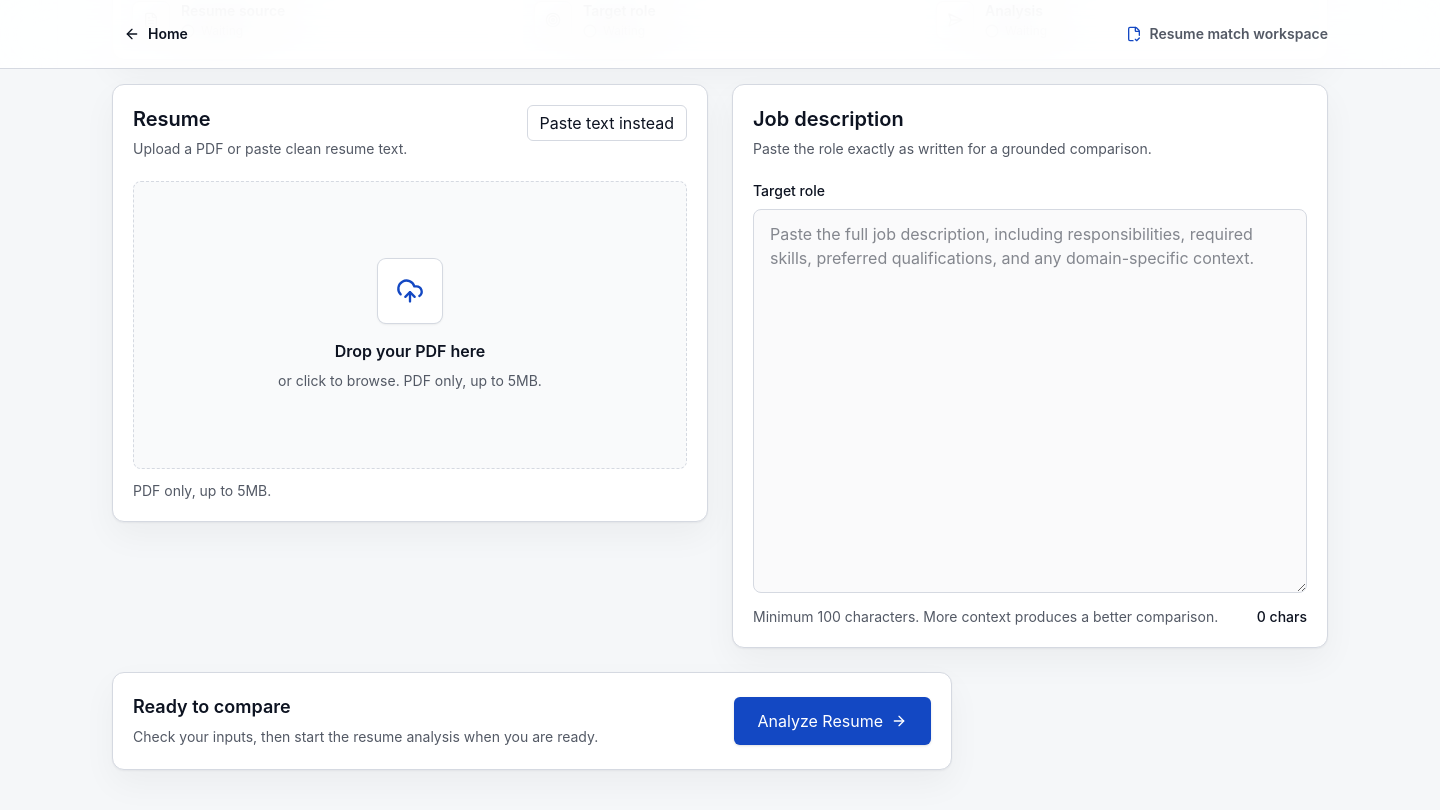
it: review flow › shows required field validation on submit
This screenshot has width=1440, height=810.
(page scrolled)
Click the button "Analyze Resume". click: (832, 721)
box: left=734, top=697, right=931, bottom=745
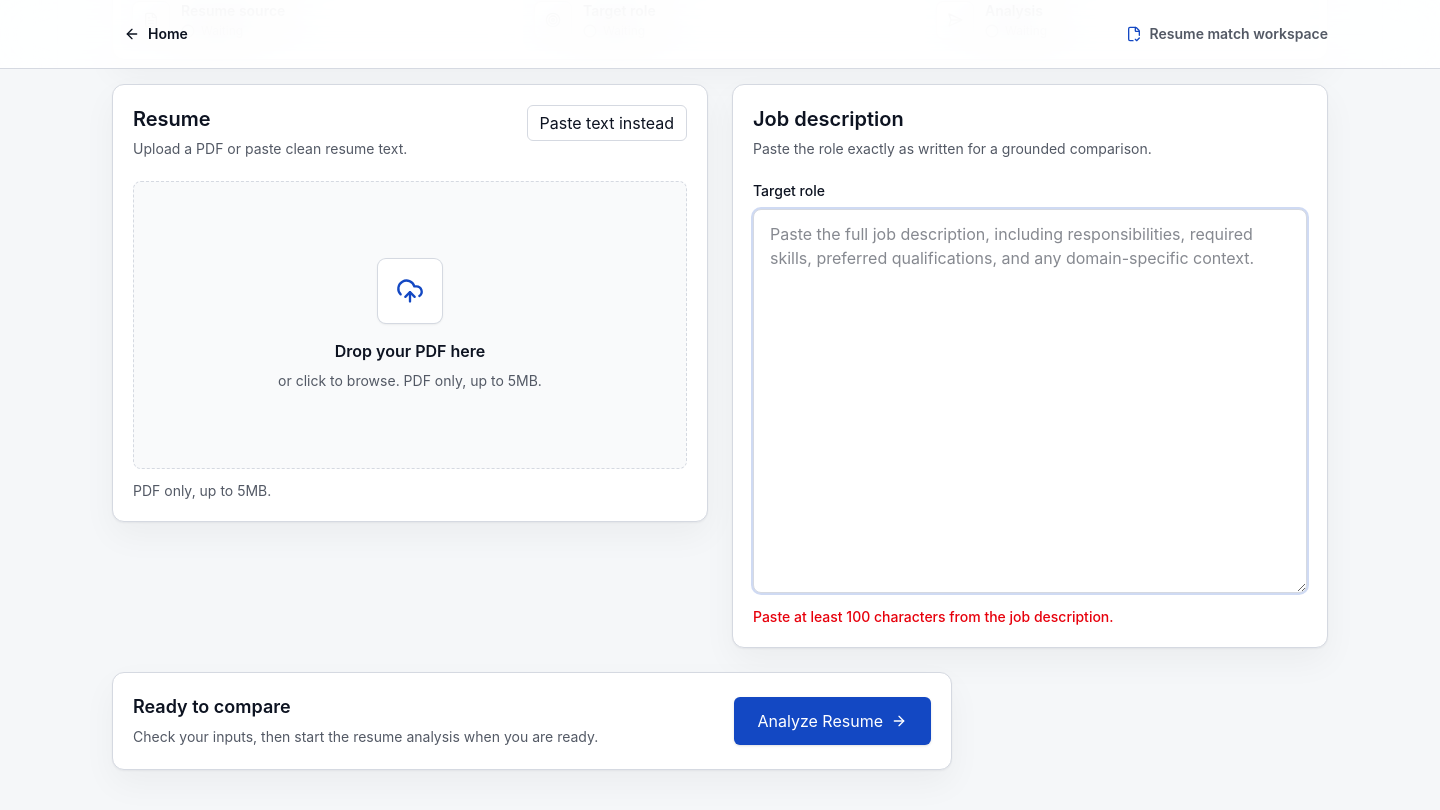
Check: the text "Paste at least 100 characters from the job description." is shown, box left=753, top=608, right=1114, bottom=625
